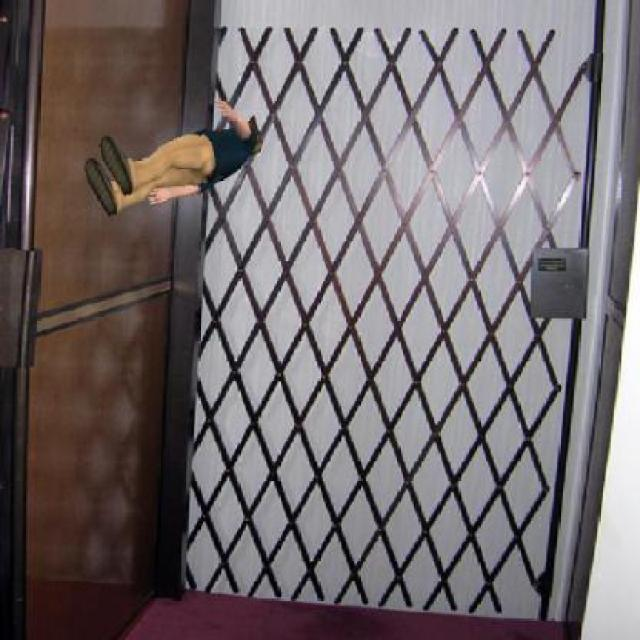Person: (82, 96, 268, 219)
